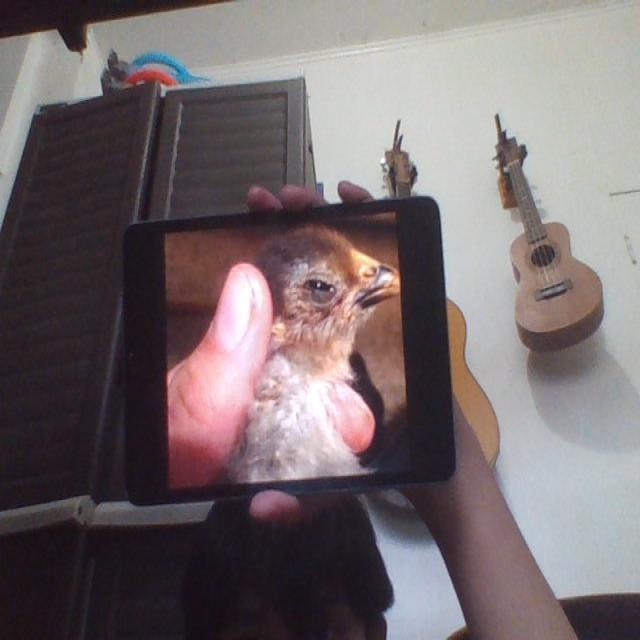Sick: (235, 227, 398, 472)
